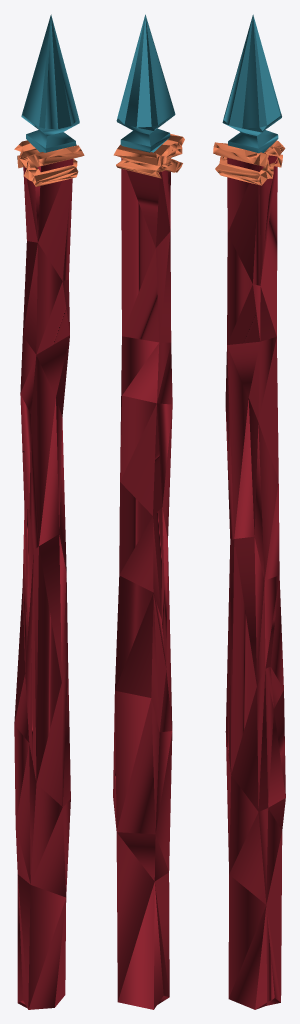
File: SpearAsset.fbx
3 views of the same model, side by side, from view 1: azimuth 30°, elevation 25°; view 2: azimuth 150°, elevation 25°; view 3: azimuth 330°, elevation 25° (orthographic).
Visible parts, largest first — view 1: Spear; view 2: Spear; view 3: Spear.
Boxes of the visible parts, x1,y1,x2,y2 form: Spear: [14, 14, 84, 1009]; Spear: [113, 14, 184, 1009]; Spear: [213, 14, 285, 1009].
Size of the model in its own units: 32.25 by 593 by 34.63.
